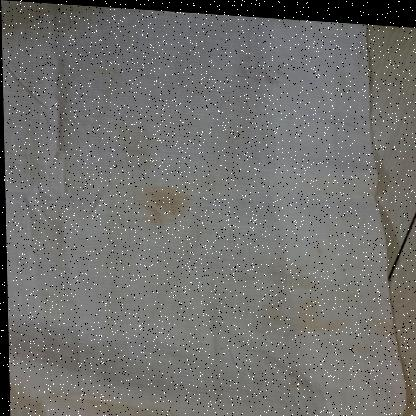spot: (244, 292, 349, 341), (133, 180, 193, 230), (258, 303, 331, 330), (281, 275, 301, 342), (270, 269, 313, 288), (145, 194, 177, 218), (263, 56, 288, 83), (282, 366, 306, 386), (311, 241, 326, 253)
